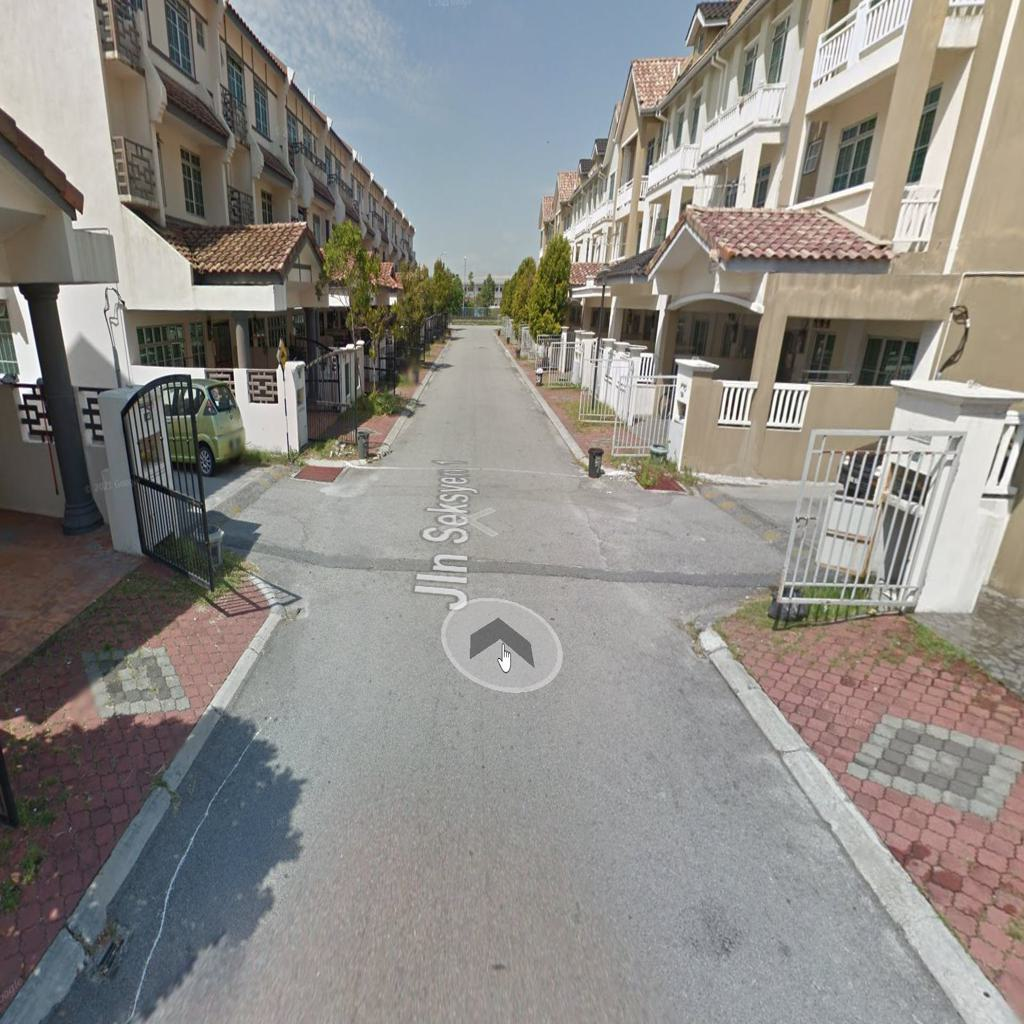Junction: (625, 432, 881, 637), (175, 416, 422, 625)
